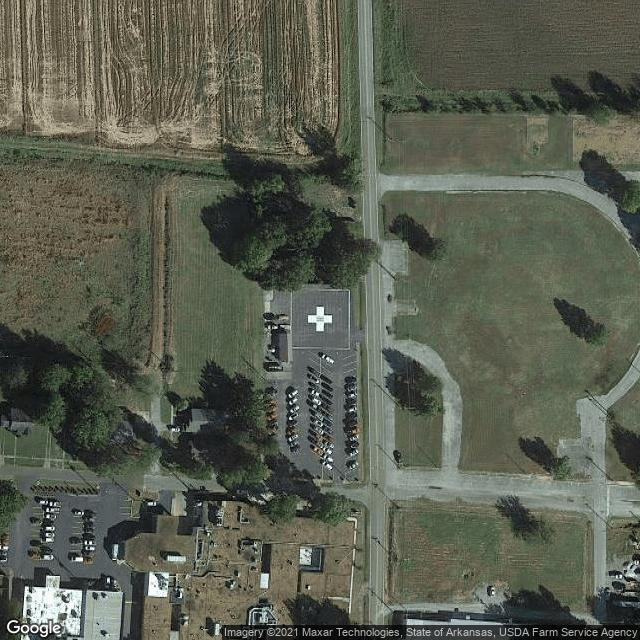Helipad: (302, 301, 342, 336)
